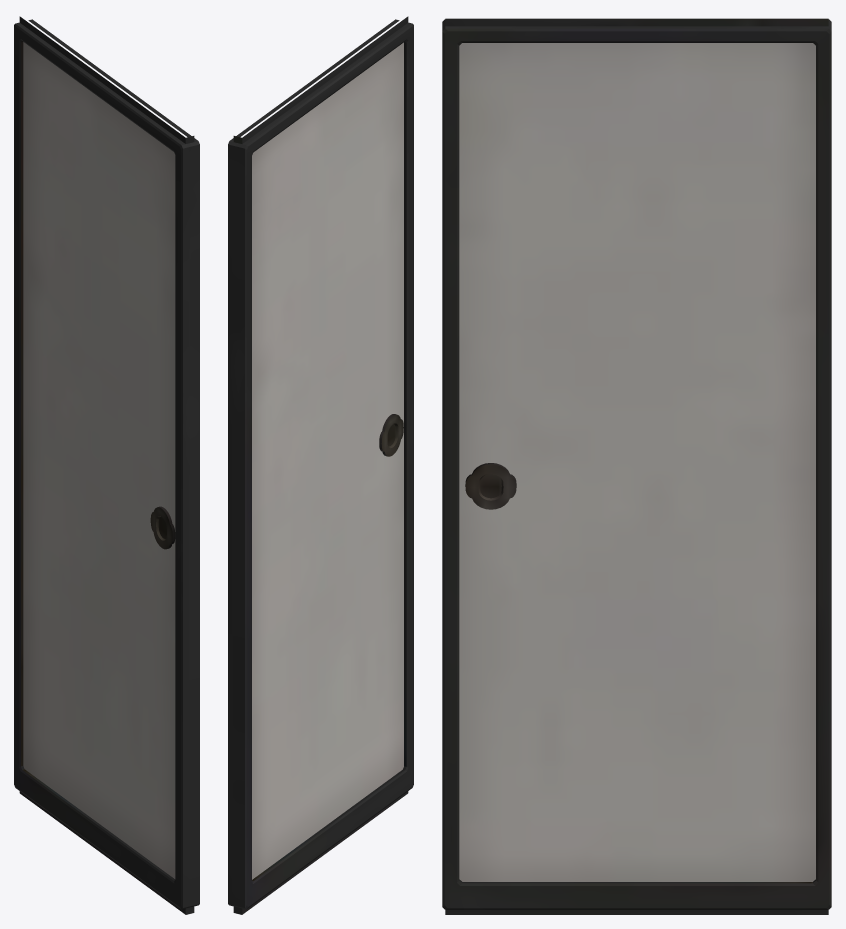
File: Architecture_JapaneseStyle_DoorC_R_091cae.glb
3 views of the same model, side by side, from view 1: azimuth 30°, elevation 25°; view 2: azimuth 150°, elevation 25°; view 3: azimuth 270°, elevation 25° (orthographic). The views are drawn at different scales.
Size of the model in its own units: 0.0606 by 2.4 by 0.9465.
Materials: 1 (1 with a texture image).
